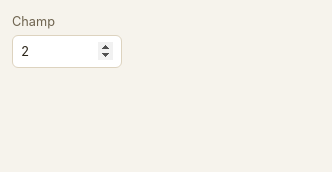
Test case: NumberField (R1) › champ entier : 2.5 est arrondi au blur, jamais transmis tel quel
The width and height of the screenshot is (332, 172).
Later steps or results of the test are not shown.
Replace the text in the number field labelled "Champ" with "2.5" at (67, 52), box [12, 35, 122, 68]
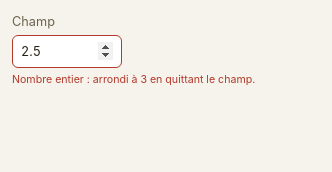
Check: the text "Nombre entier : arrondi à 3 en quittant le champ." is shown, box [12, 73, 255, 86]
